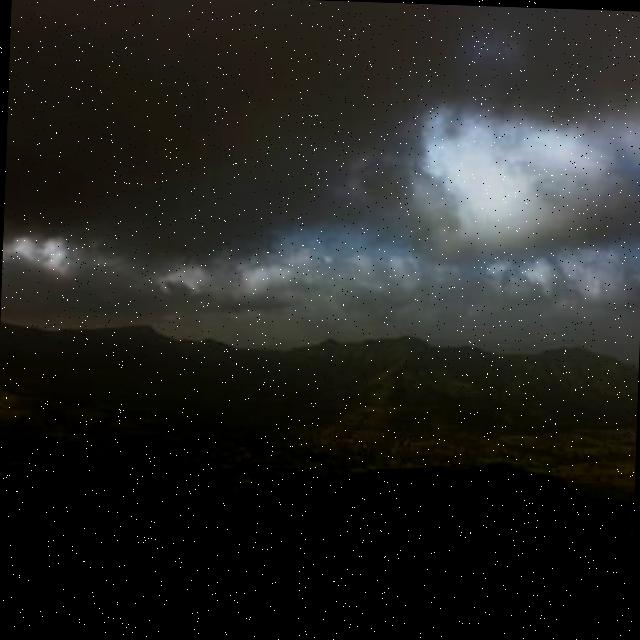Ns: (1, 1, 640, 334)
